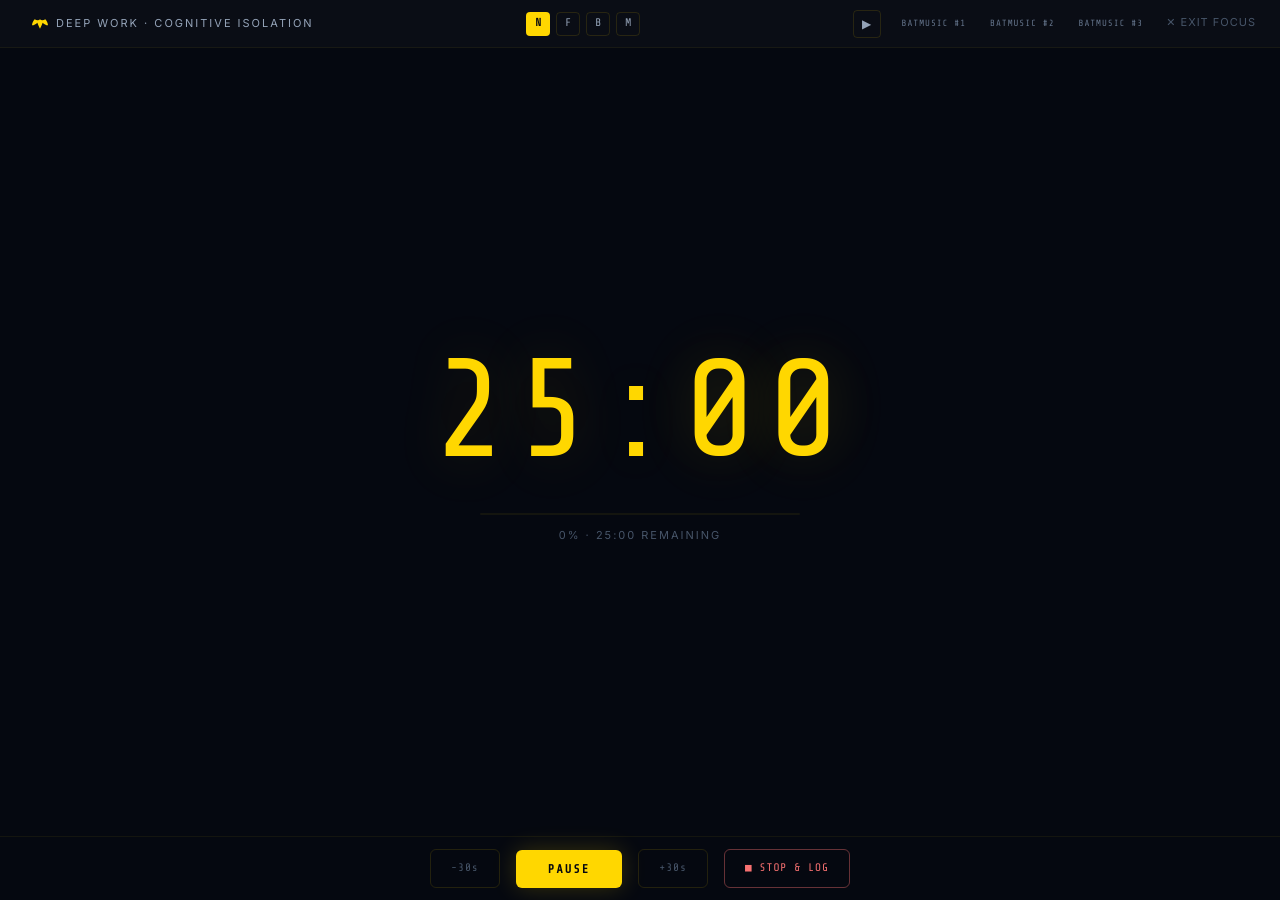
Test case: BatFocusTimer › native fullscreen exit (Esc) does NOT exit focus mode; EXIT FOCUS does, without stopping the timer
Click the button "✕ EXIT FOCUS". click: x=1211, y=22
box: [1166,14,1256,30]
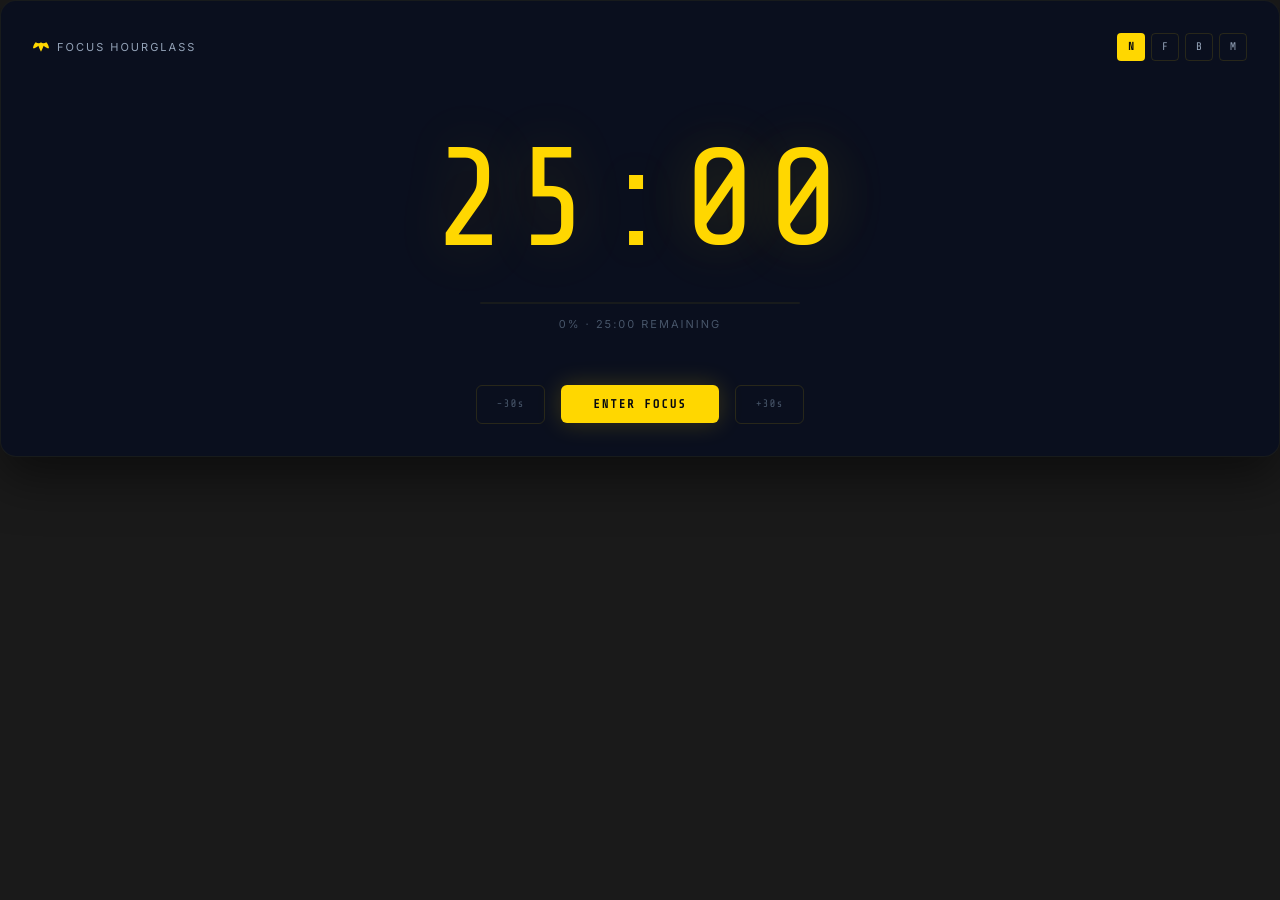
Result: the button "ENTER FOCUS" is shown at [561,385,719,423]
